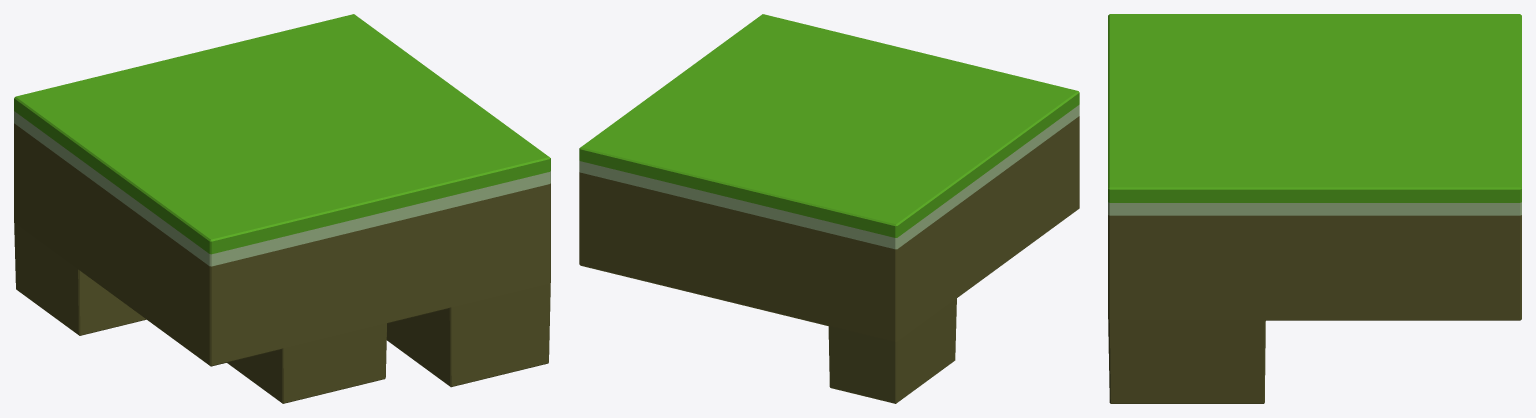
File: Isl_17_Base_1.fbx
The picture shows the model from 3 angles, left to right: view 1: azimuth 30°, elevation 25°; view 2: azimuth 150°, elevation 25°; view 3: azimuth 270°, elevation 25°; orthographic projection. The views are drawn at different scales.
Visible parts, largest first — view 1: Isl_17_Base_1; view 2: Isl_17_Base_1; view 3: Isl_17_Base_1.
Boxes of the visible parts, left/top/right/bottom form: Isl_17_Base_1: left=14, top=14, right=550, bottom=403; Isl_17_Base_1: left=579, top=14, right=1079, bottom=403; Isl_17_Base_1: left=1108, top=14, right=1521, bottom=403.
Size of the model in its own units: 2024 by 2024 by 1171.
Materials: 1 (1 with a texture image).
